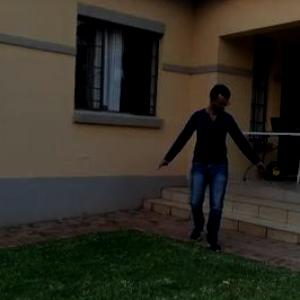land: (154, 83, 260, 258)
